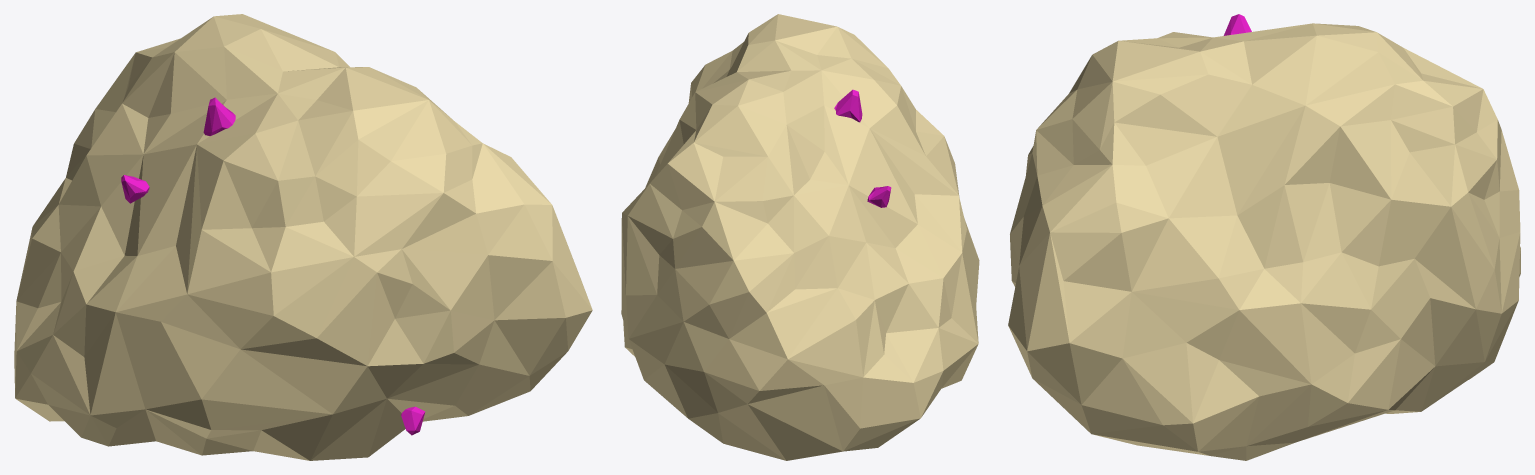
Rendered from CrystalOre (44).fbx.
The picture shows the model from 3 angles, left to right: view 1: azimuth 30°, elevation 25°; view 2: azimuth 150°, elevation 25°; view 3: azimuth 270°, elevation 25°; orthographic projection. The views are drawn at different scales.
Visible parts, largest first — view 1: Asteroid264; view 2: Asteroid264; view 3: Asteroid264.
Part boxes in pixels (bbox=[...]): Asteroid264: bbox=[14, 14, 592, 460]; Asteroid264: bbox=[621, 14, 979, 460]; Asteroid264: bbox=[1008, 14, 1520, 460].
Size of the model in its own units: 401 by 344 by 414.
